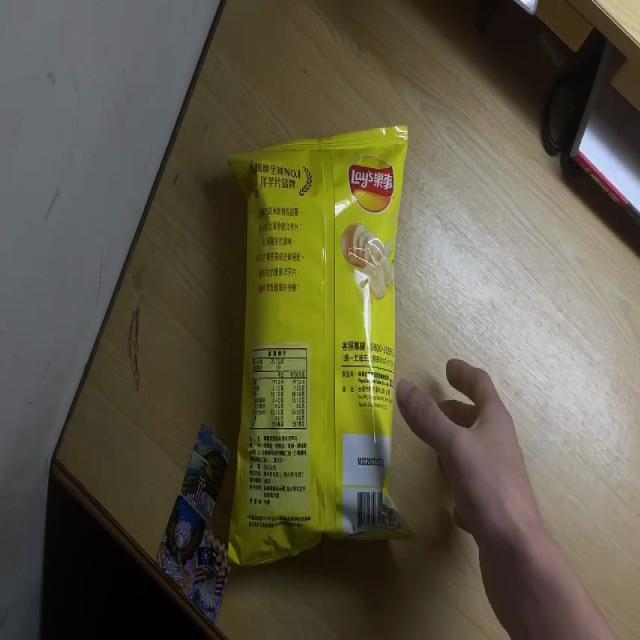Lay-s-original: (218, 120, 412, 566)
